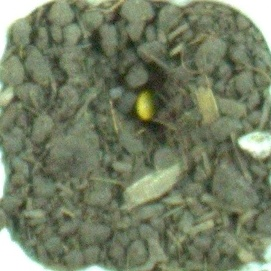chilli seed: (135, 89, 158, 121)
